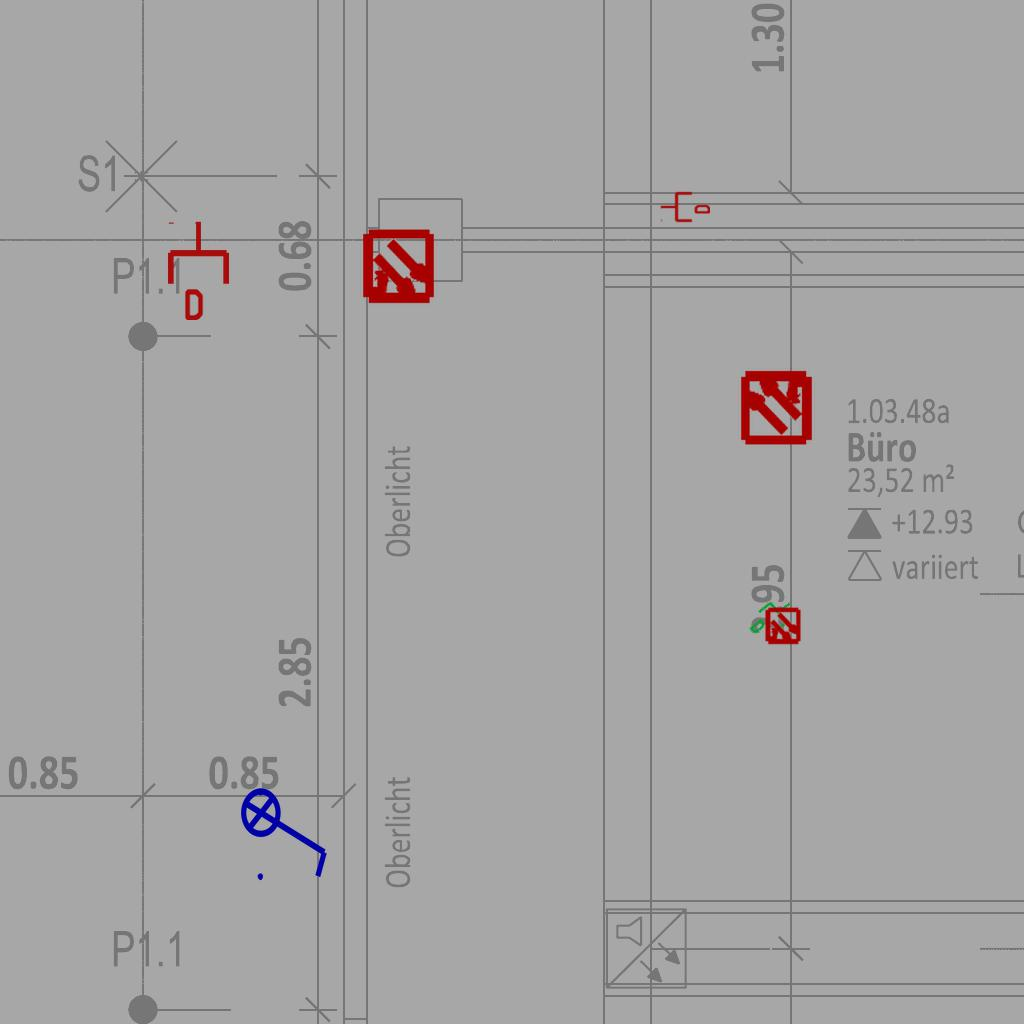Ausschalter_beleuchtet: (239, 774, 335, 886)
Datenanschluss_einfach: (164, 220, 233, 320), (741, 590, 803, 648), (660, 190, 710, 224)
OT_Multisensormelder_(Kombination_RMO_WMD): (342, 212, 455, 325), (720, 349, 833, 462), (755, 599, 811, 655)
